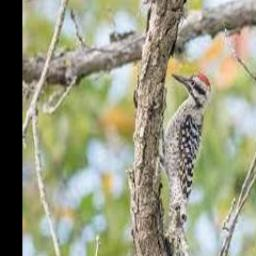Woodpecker: (160, 72, 211, 256)
